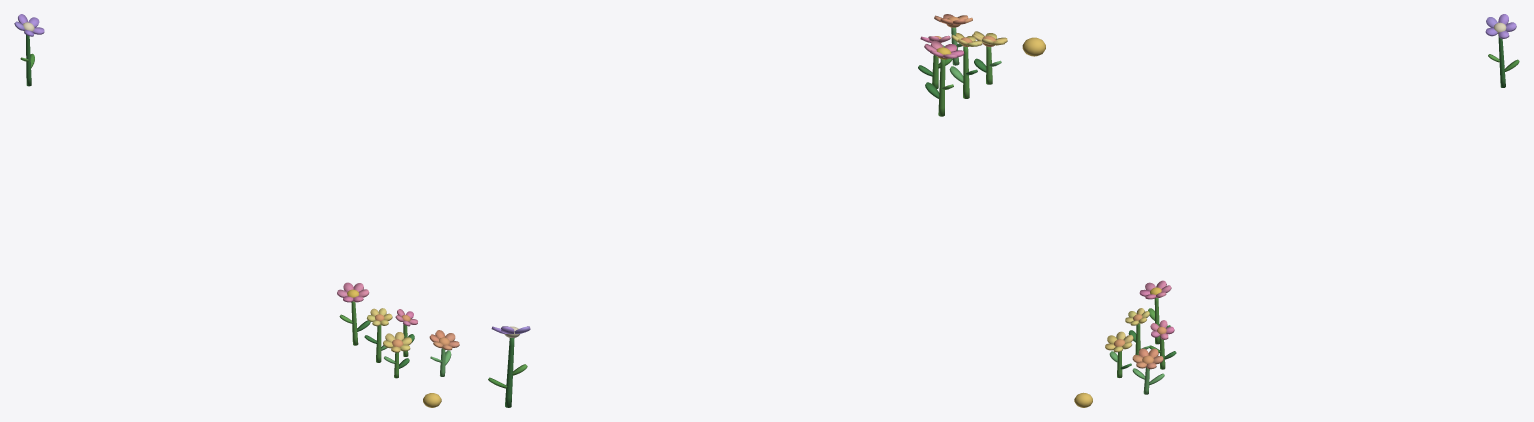
File: W3_FloraRing_9_9.fbx
The picture shows the model from 3 angles, left to right: view 1: azimuth 30°, elevation 25°; view 2: azimuth 150°, elevation 25°; view 3: azimuth 330°, elevation 25°; orthographic projection. The views are drawn at different scales.
Visible parts, largest first — view 1: W3_FloraRing_9_9; view 2: W3_FloraRing_9_9; view 3: W3_FloraRing_9_9.
Boxes of the visible parts, left/top/right/bottom form: W3_FloraRing_9_9: left=14, top=14, right=459, bottom=407; W3_FloraRing_9_9: left=488, top=14, right=1045, bottom=407; W3_FloraRing_9_9: left=1074, top=14, right=1519, bottom=407.
Size of the model in its own units: 0.247 by 0.3072 by 2.67.
